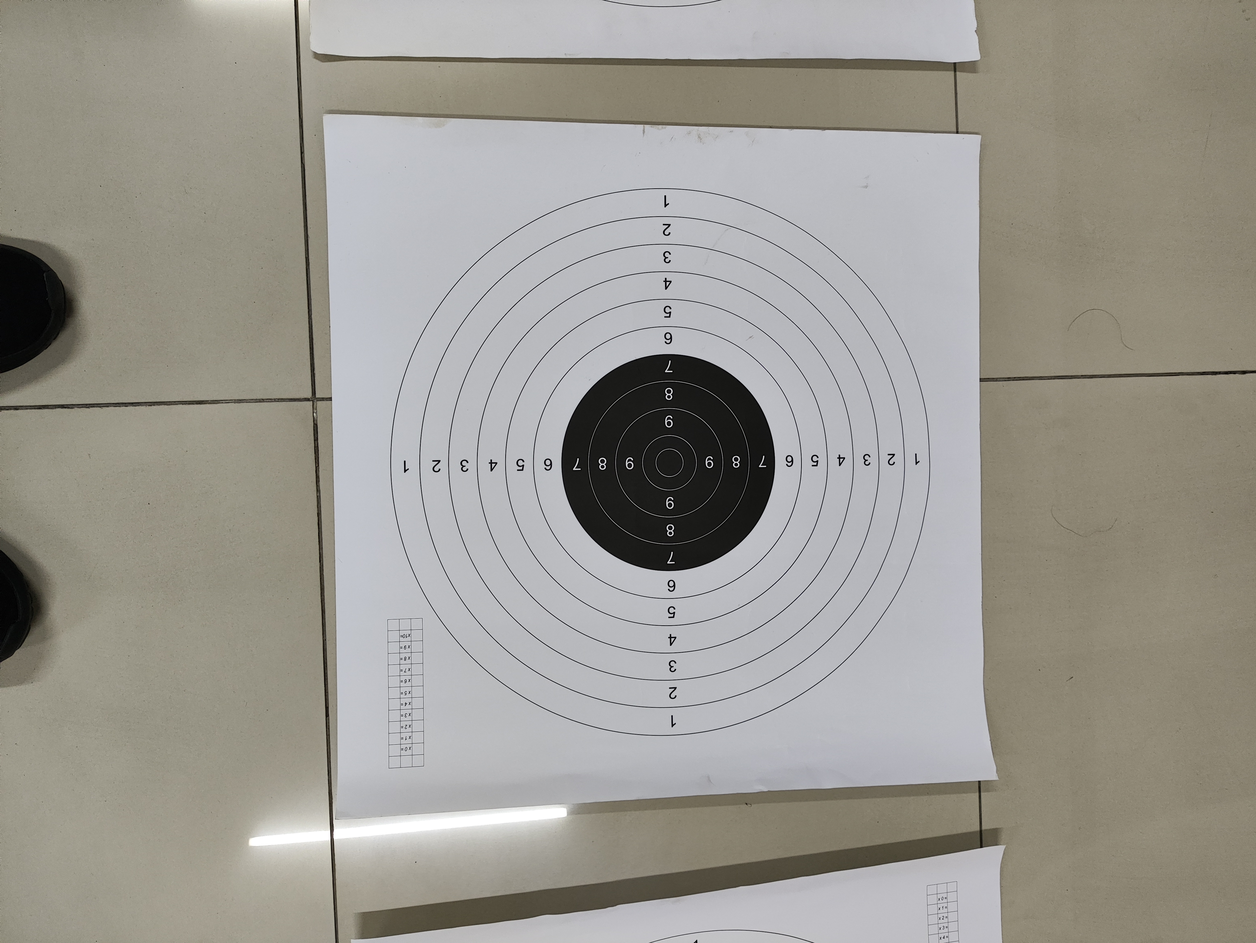target: (367, 141, 956, 758)
